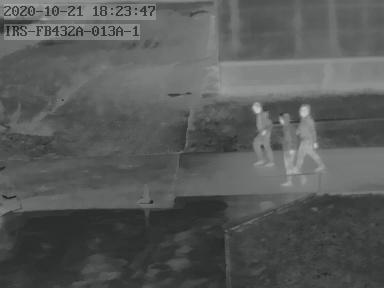person: (295, 104, 323, 171), (277, 113, 301, 184), (249, 100, 272, 164)
